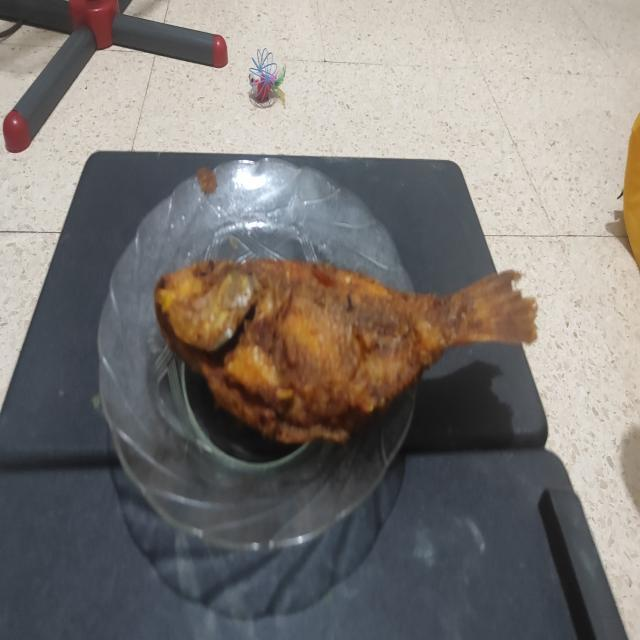ikan_mujair: (154, 258, 536, 444)
